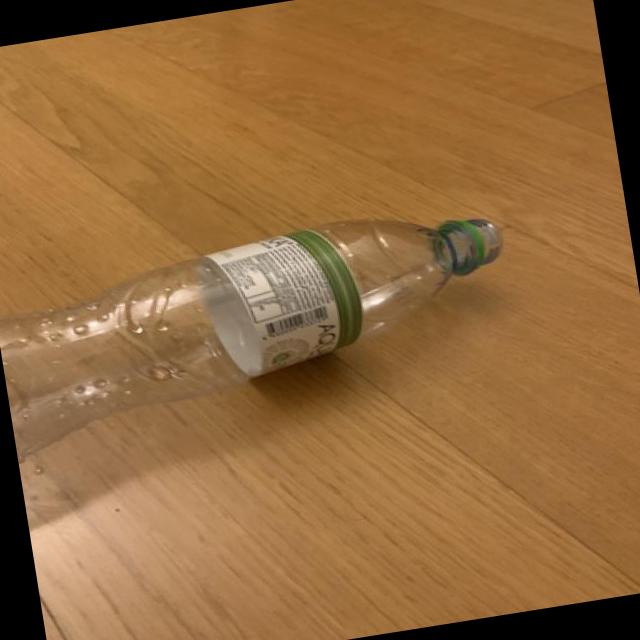plastic_bottle: (0, 196, 524, 458)
